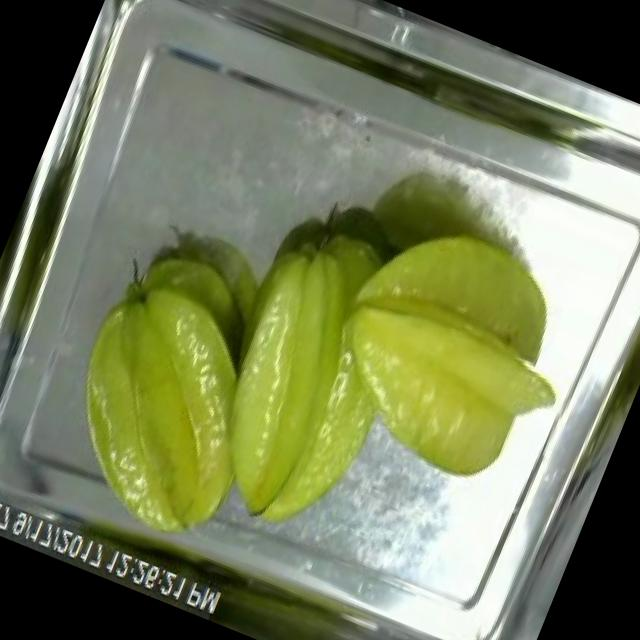fruit: (52, 156, 454, 568), (288, 181, 612, 505), (13, 244, 326, 577)
